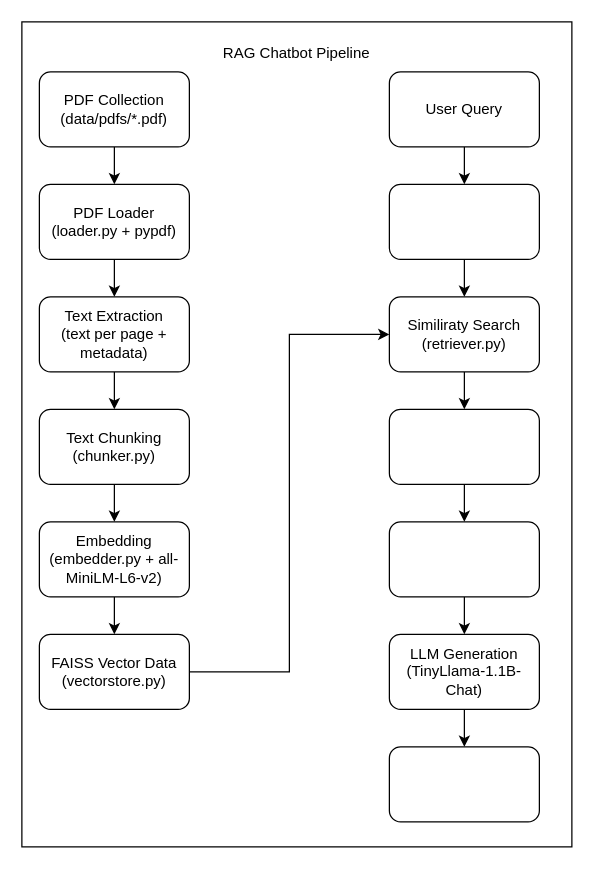
Some shapes in this 594 by 869 pixel diagram are drawn without their labels. Each missing label, with the box of its shape:
Answer + Citations: (388, 746, 539, 822)
Prompt Construction: (388, 521, 539, 597)
Query Embedding: (388, 183, 539, 259)
Top-K Relevant Chunks: (388, 408, 539, 484)
